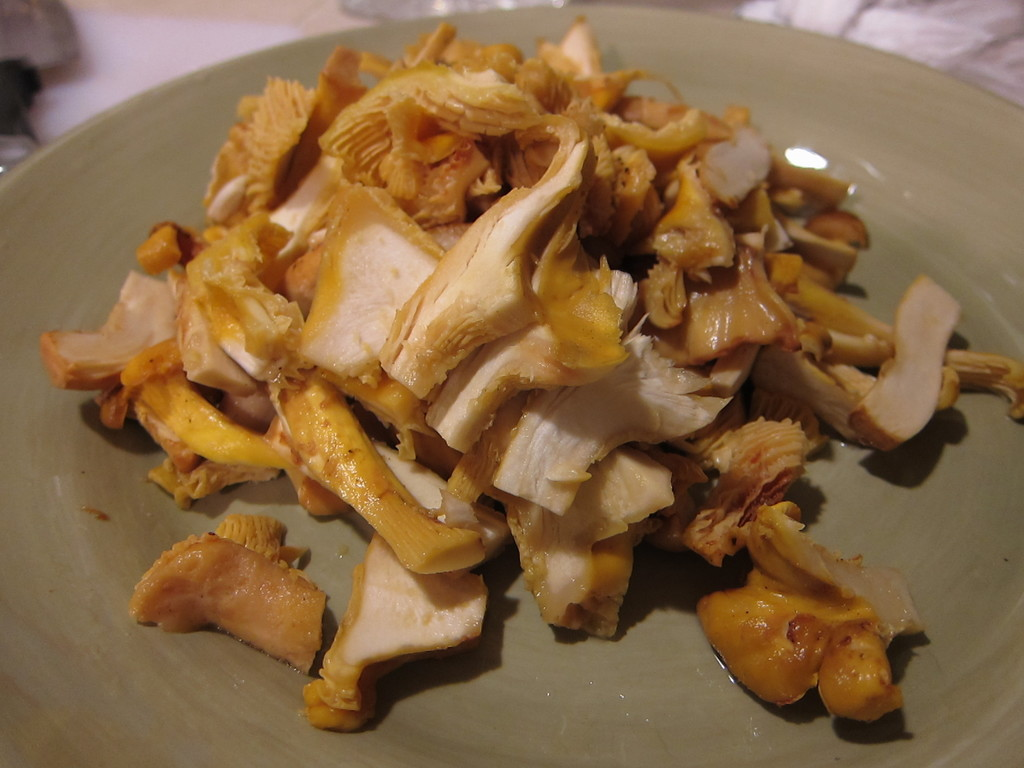person: (0, 0, 92, 177)
